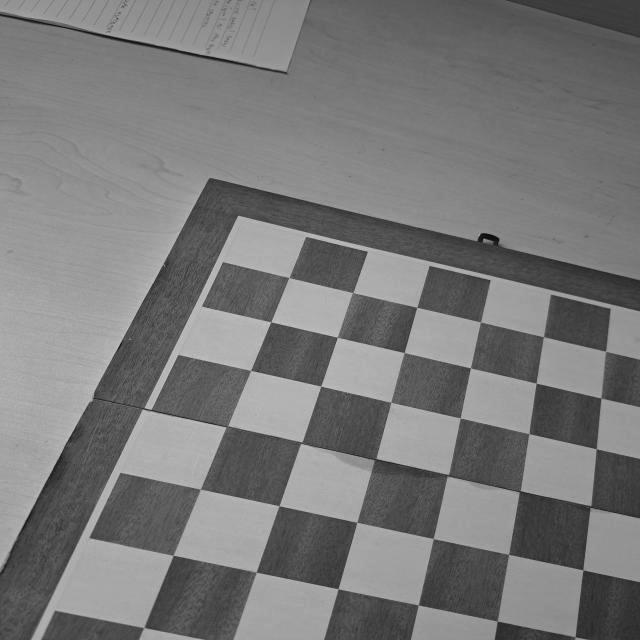chess-table-corners: (226, 212, 259, 232)
